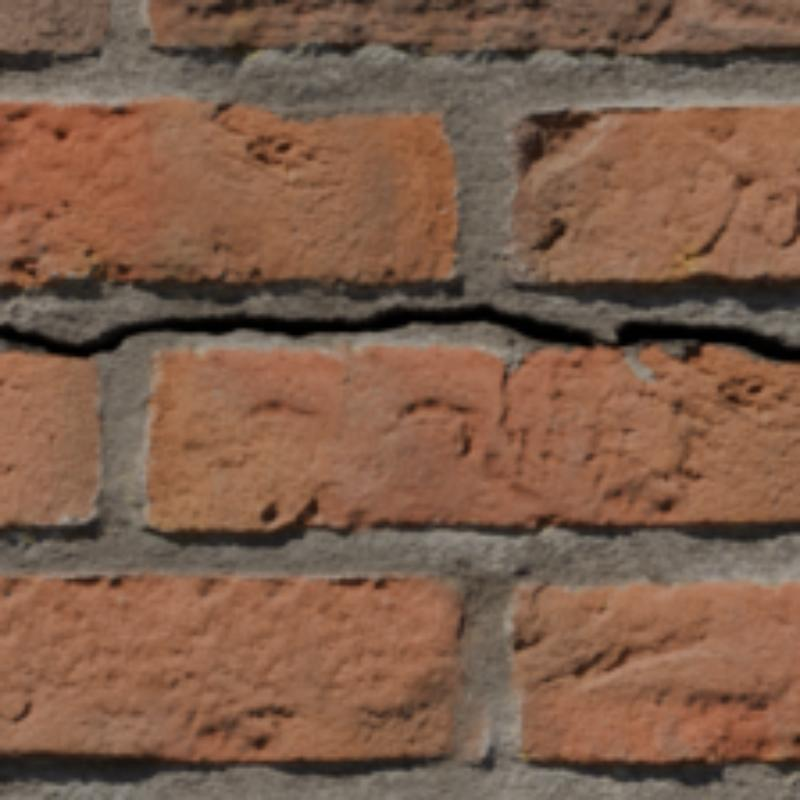pothole: (0, 304, 796, 361)
